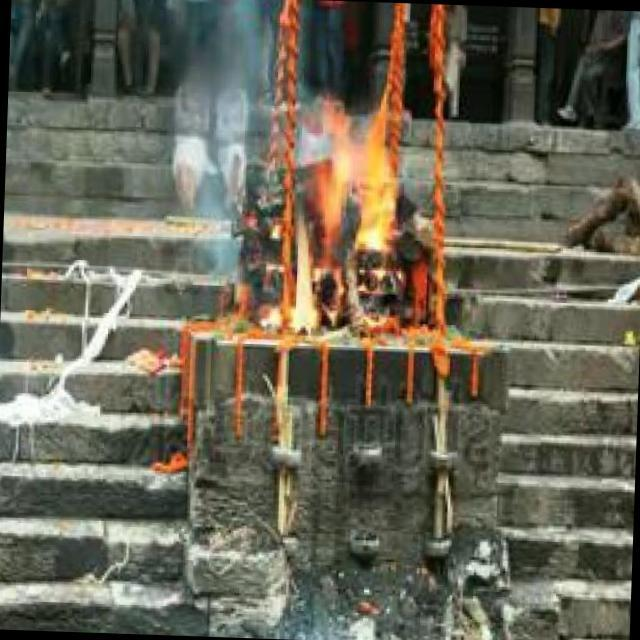Fire: (264, 91, 406, 338)
